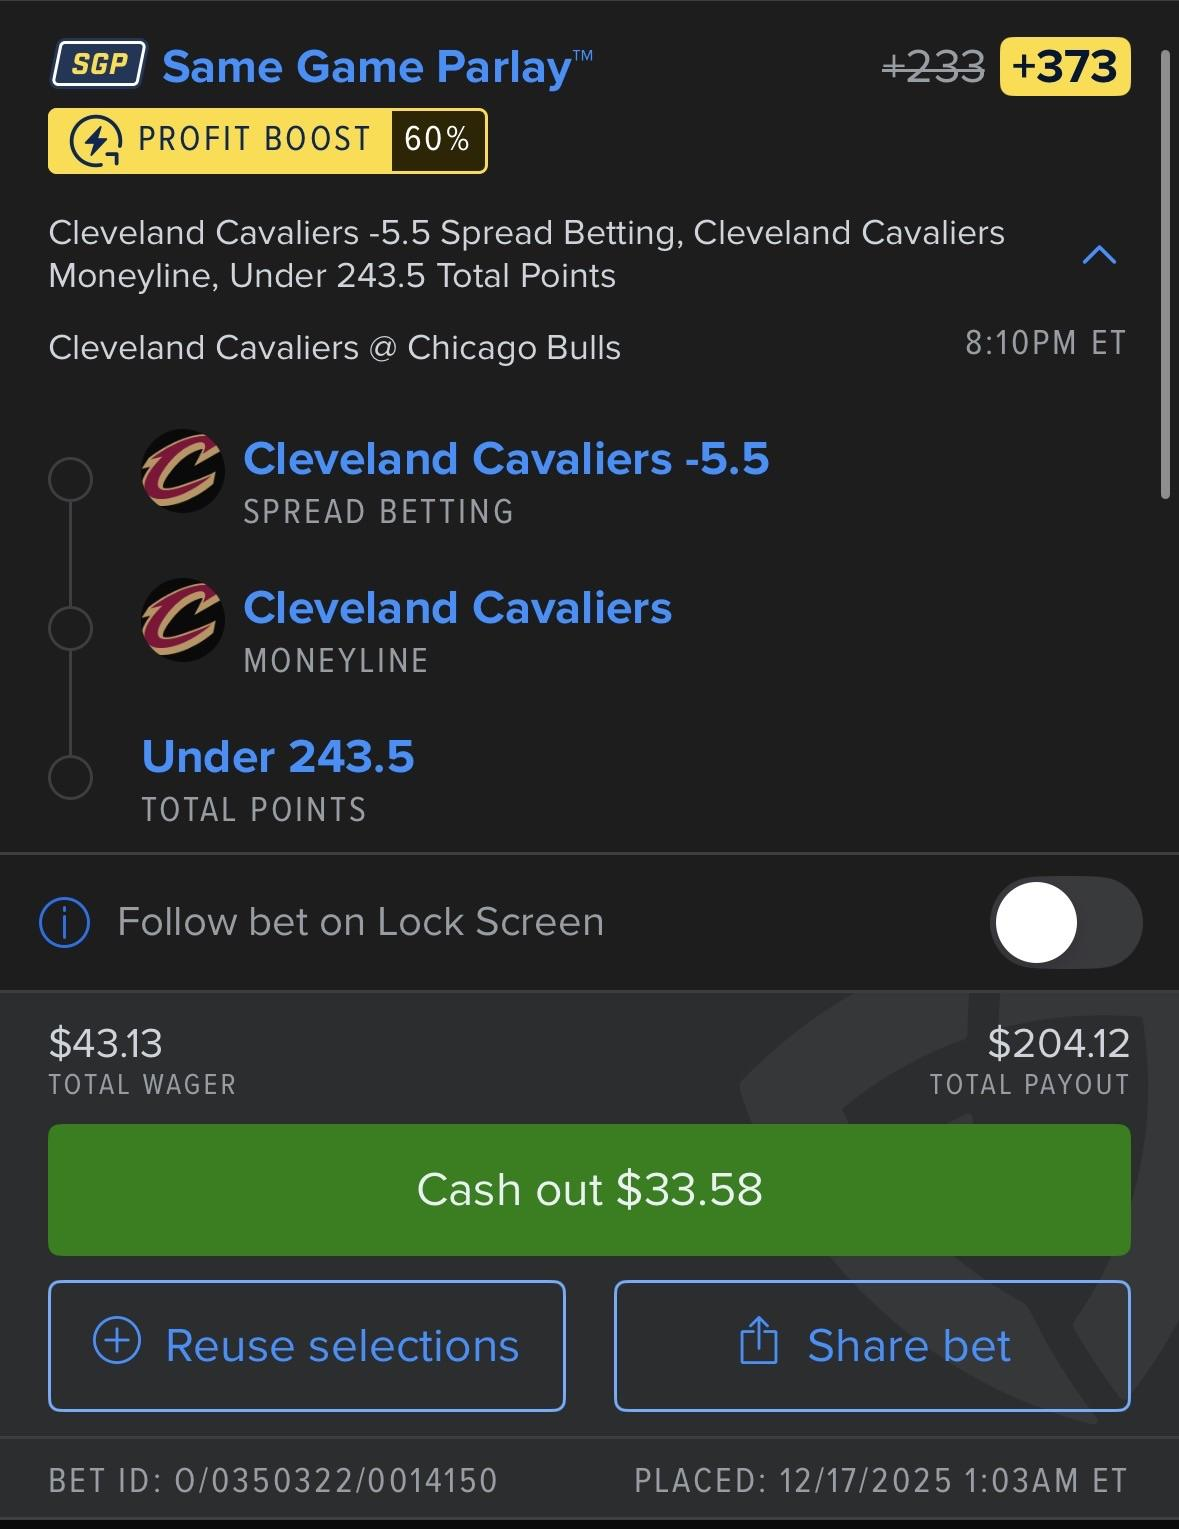game: (48, 316, 628, 383)
odds: (1006, 42, 1132, 94)
payout: (982, 1016, 1141, 1070)
wager: (40, 1018, 172, 1068)
